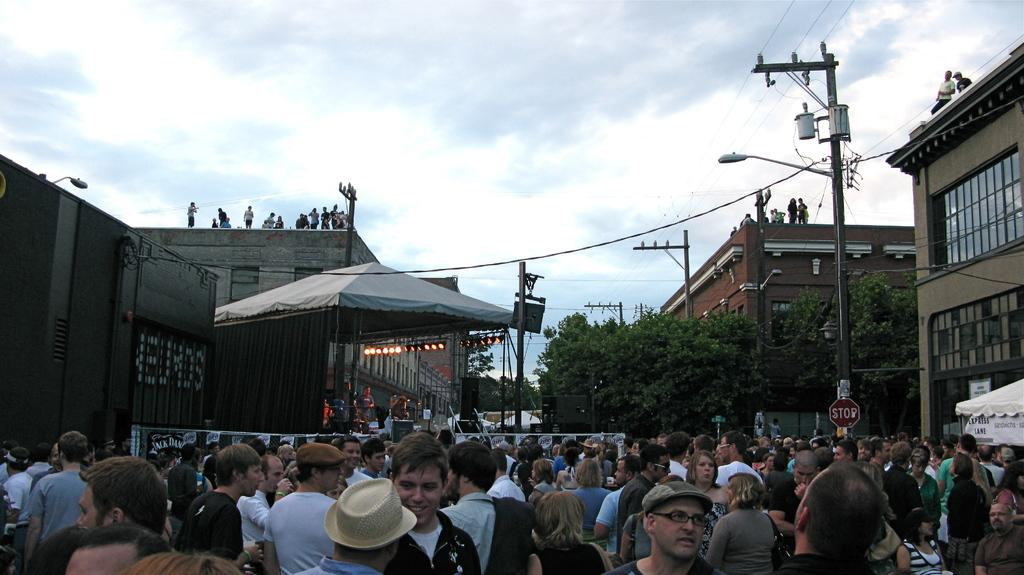Hat: (324, 477, 416, 551)
